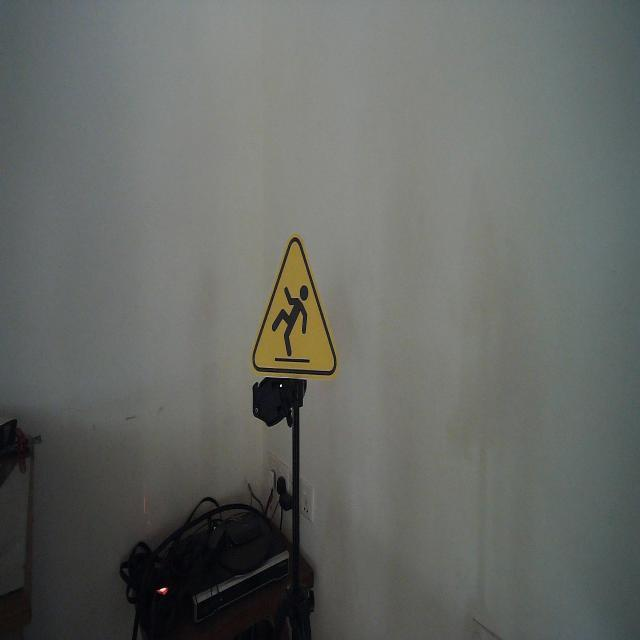slippery_sign: (250, 230, 342, 387)
